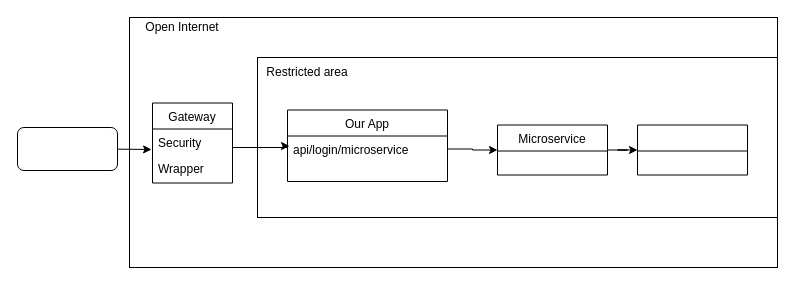
This 795x285 diagram has some shape labels left out. Each missing label, with the centre of its shape:
Client/Provider: point (67, 148)
Server: point (692, 149)
